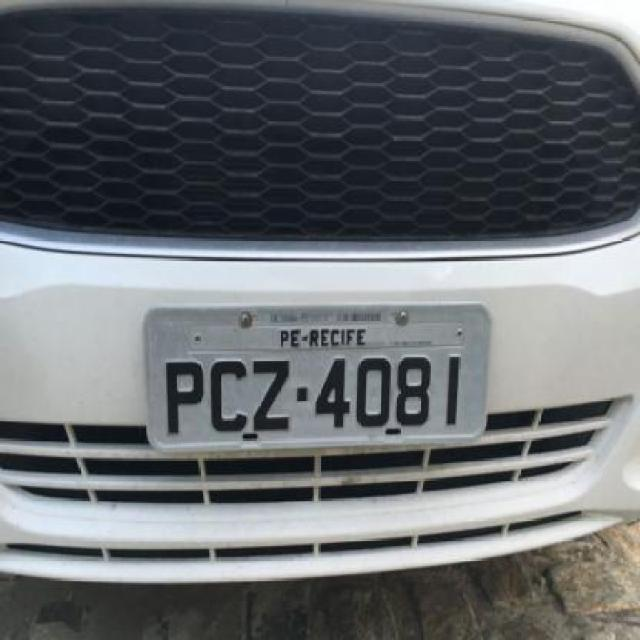old_plate: (139, 298, 497, 460)
